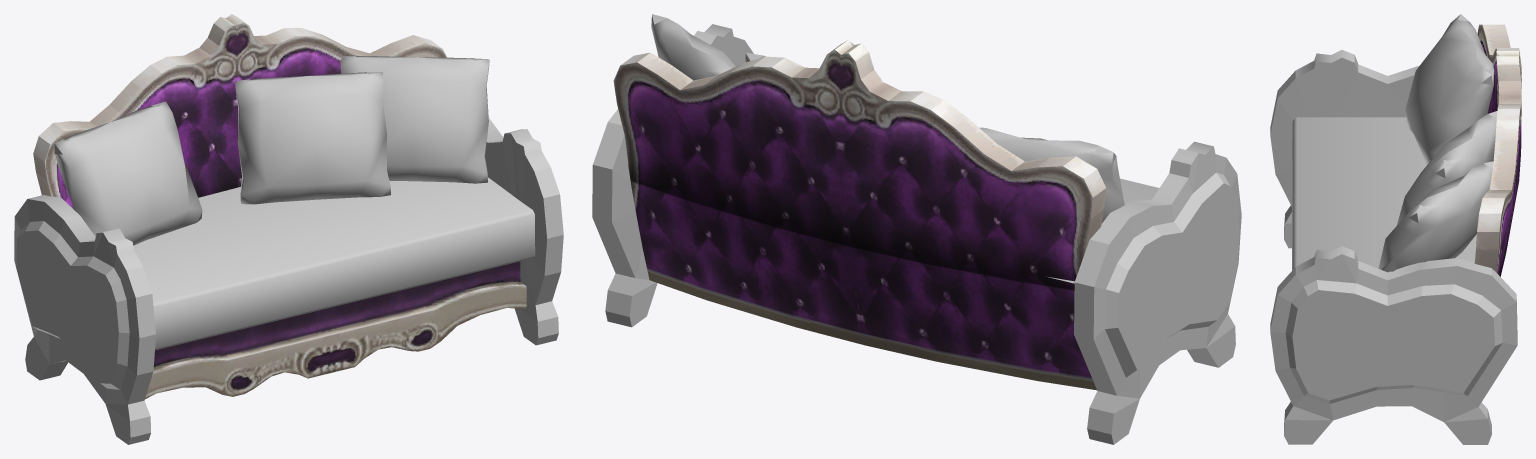
File: furni_0201115_01.FBX
3 renders of one model, left to right at view 1: azimuth 30°, elevation 25°; view 2: azimuth 150°, elevation 25°; view 3: azimuth 270°, elevation 25°, orthographic. The views are drawn at different scales.
Visible parts, largest first — view 1: furni_0201115_01; view 2: furni_0201115_01; view 3: furni_0201115_01.
Part boxes in pixels (bbox=[...]): furni_0201115_01: bbox=[14, 14, 563, 444]; furni_0201115_01: bbox=[592, 14, 1241, 444]; furni_0201115_01: bbox=[1270, 14, 1521, 444].
Size of the model in its own units: 158 by 99.44 by 78.57.
